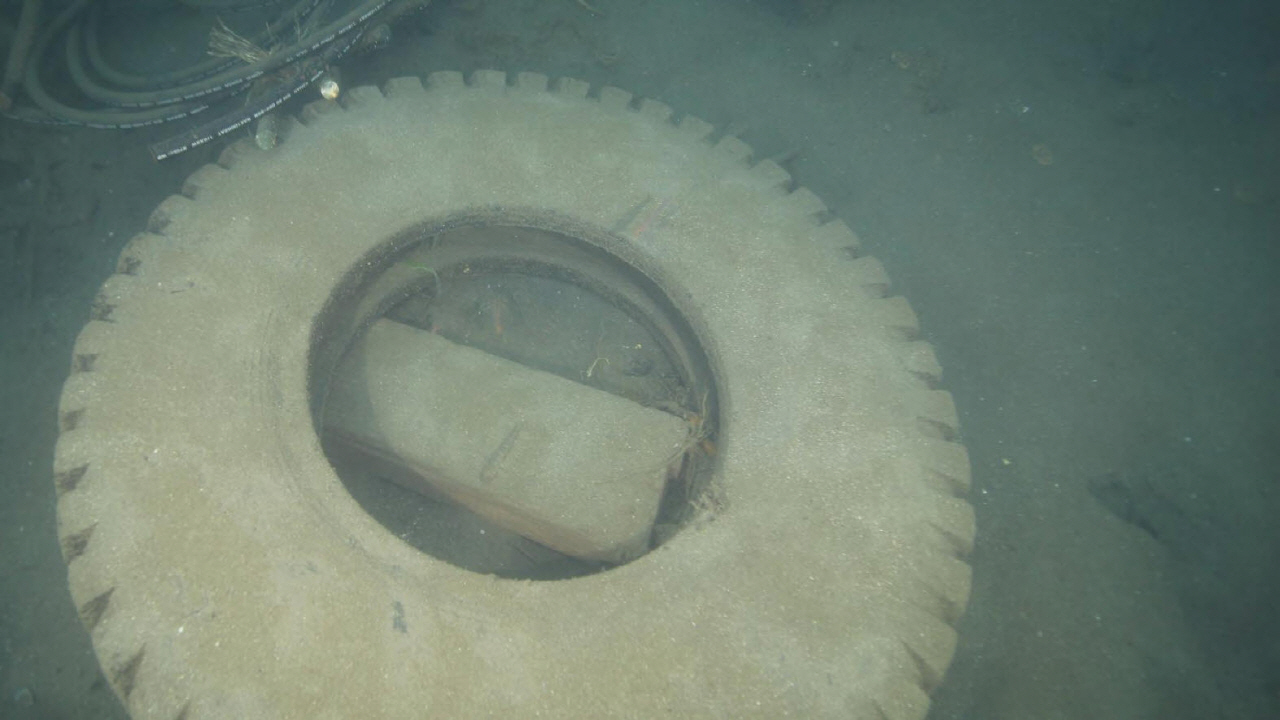tire: (50, 67, 978, 720)
